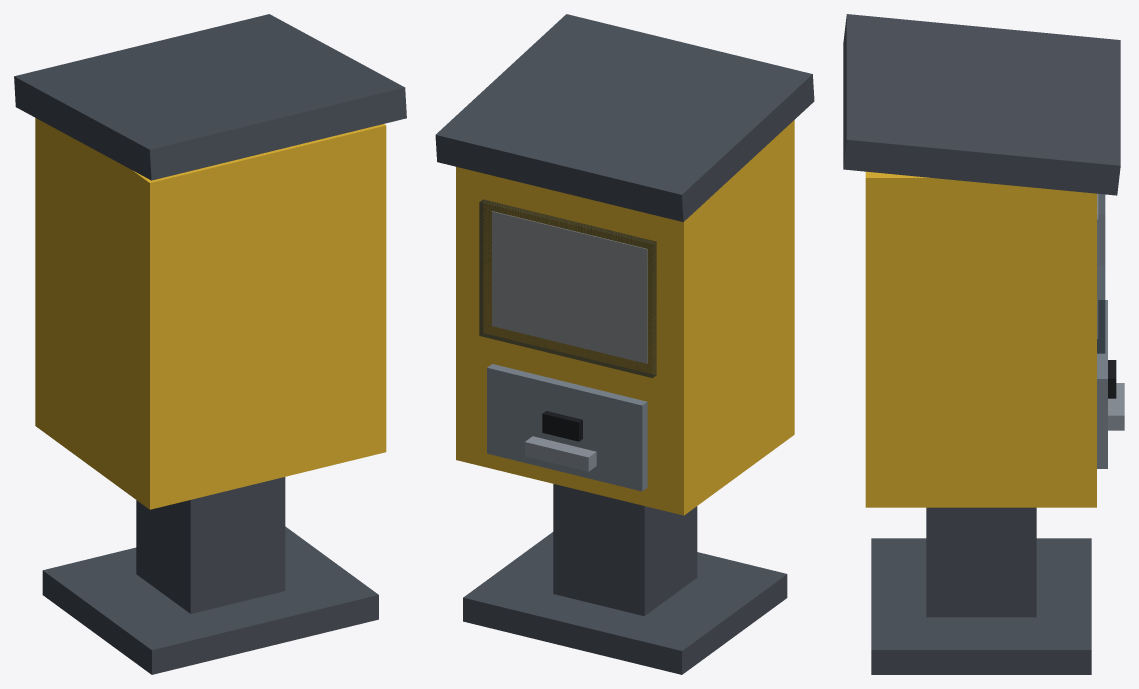
Rendered from newspaper_box.glb.
The picture shows the model from 3 angles, left to right: view 1: azimuth 30°, elevation 25°; view 2: azimuth 150°, elevation 25°; view 3: azimuth 270°, elevation 25°; orthographic projection. The views are drawn at different scales.
Visible parts, largest first — view 1: Body; view 2: Body; view 3: Body.
Part boxes in pixels (x1,y1,x2,y2): Body: (14,14,406,674); Body: (435,14,814,674); Body: (843,14,1124,674).
Bounding box in the file's own units: 0.54 × 1.09 × 0.5107.
